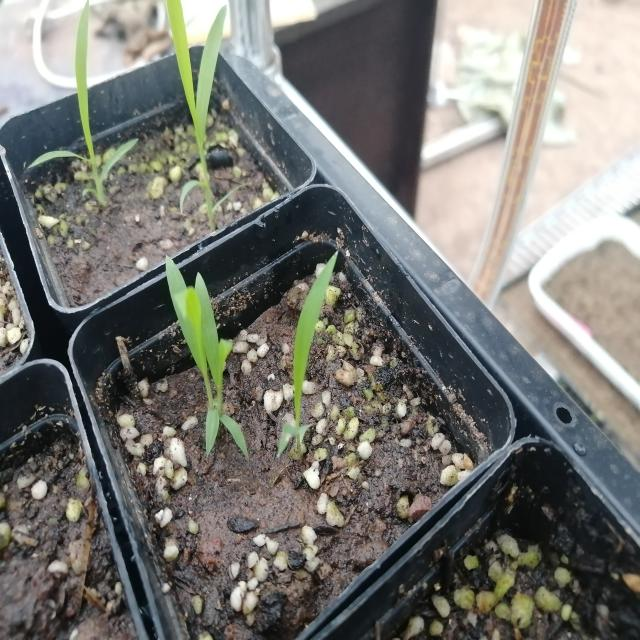crabgrass: (143, 247, 252, 461), (274, 253, 378, 458), (159, 6, 246, 204), (42, 3, 134, 187)
